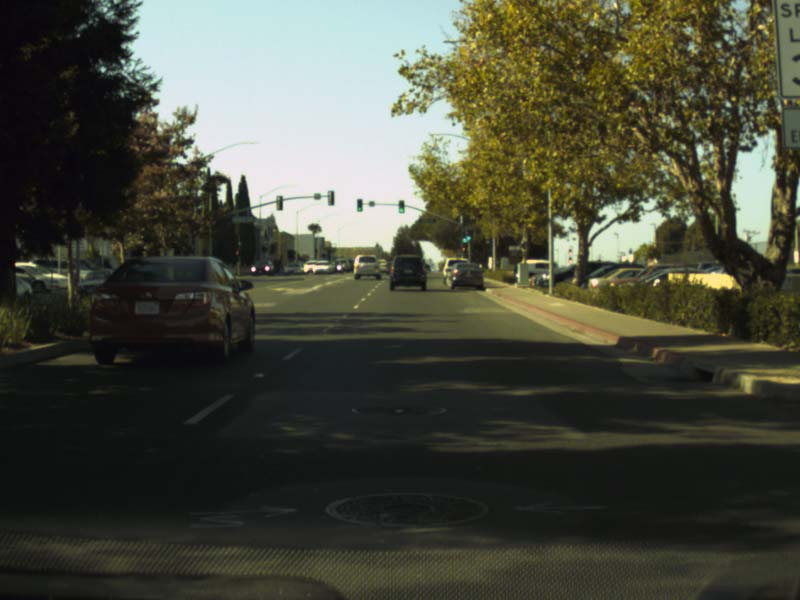Green: (356, 198, 362, 212), (466, 228, 472, 242), (460, 229, 466, 243), (398, 200, 404, 213)
